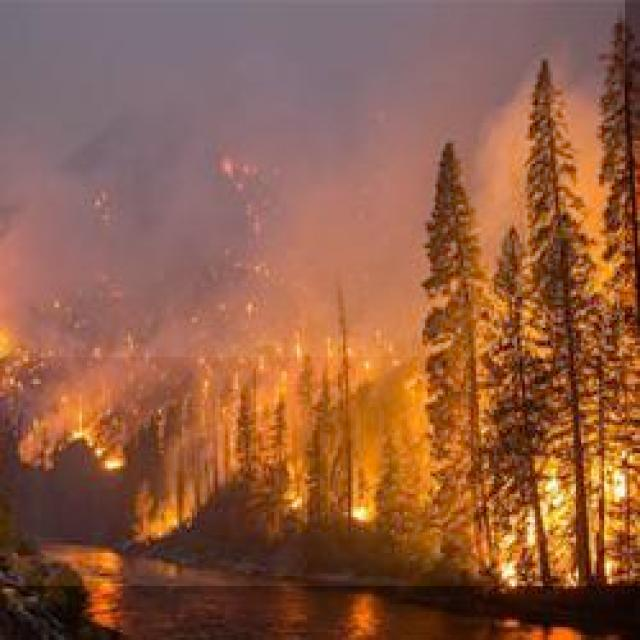Fire: (0, 326, 640, 586)
Smoke: (0, 0, 625, 357)
